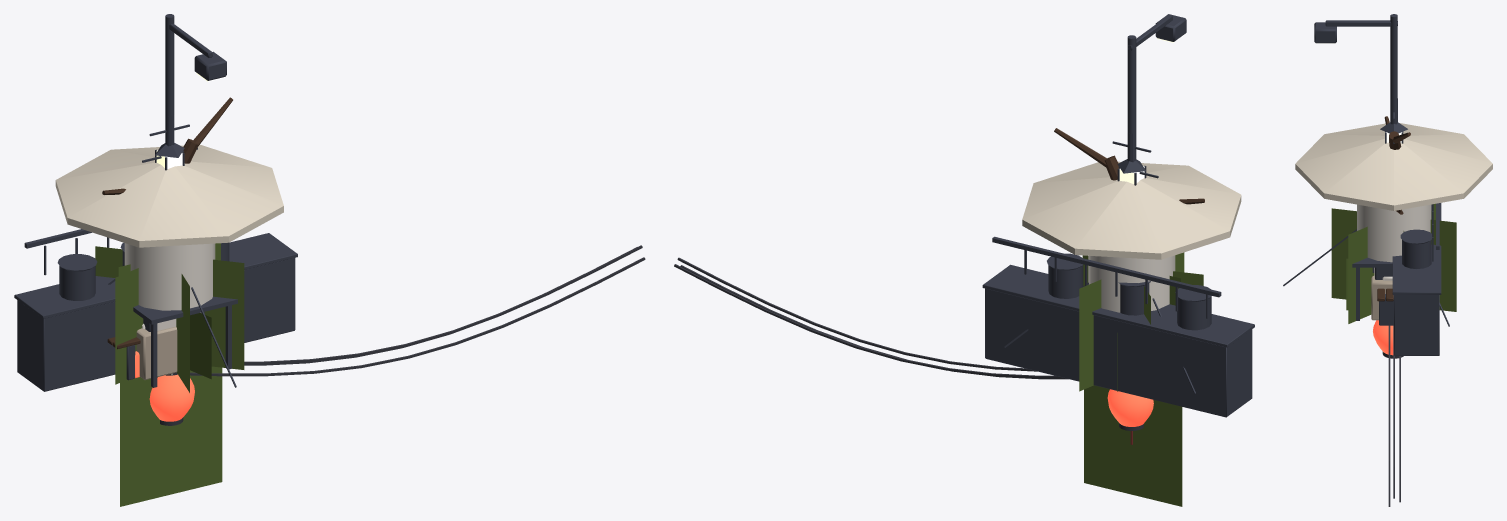
The model's file is props_batch1.glb.
The picture shows the model from 3 angles, left to right: view 1: azimuth 30°, elevation 25°; view 2: azimuth 150°, elevation 25°; view 3: azimuth 270°, elevation 25°; orthographic projection. The views are drawn at different scales.
Visible parts, largest first — view 1: P_terrace_umbrella, P_ramen_counter_set, F_ivy_wall, F_sakura_cloud, P_roof_water_tank, P_cable_bundle_6m, P_street_lamp, P_lantern_red, F_pine_cloud, P_planter_box_1m, P_tree_trunk_pine; view 2: P_ramen_counter_set, P_terrace_umbrella, F_ivy_wall, P_cable_bundle_6m, P_roof_water_tank, F_sakura_cloud, P_street_lamp, P_lantern_red, P_tree_trunk_pine; view 3: P_terrace_umbrella, P_ramen_counter_set, F_sakura_cloud, P_roof_water_tank, P_street_lamp, P_cable_bundle_6m, P_bench_wood, P_lantern_red, P_planter_box_1m, P_tree_trunk_pine, P_lamp_lantern_post, P_roof_antenna (+1 smaller).
Part boxes in pixels (bbox=[...]): P_terrace_umbrella: bbox=[55, 144, 283, 247]; P_ramen_counter_set: bbox=[14, 229, 297, 391]; F_ivy_wall: bbox=[120, 366, 222, 506]; F_sakura_cloud: bbox=[95, 246, 244, 392]; P_roof_water_tank: bbox=[124, 243, 237, 387]; P_cable_bundle_6m: bbox=[190, 245, 645, 376]; P_street_lamp: bbox=[165, 14, 226, 145]; P_lantern_red: bbox=[149, 372, 194, 425]; F_pine_cloud: bbox=[118, 243, 220, 379]; P_planter_box_1m: bbox=[136, 326, 177, 379]; P_tree_trunk_pine: bbox=[102, 97, 232, 194]; P_ramen_counter_set: bbox=[982, 236, 1254, 417]; P_terrace_umbrella: bbox=[1022, 161, 1241, 259]; F_ivy_wall: bbox=[1084, 385, 1182, 506]; P_cable_bundle_6m: bbox=[674, 257, 1068, 379]; P_roof_water_tank: bbox=[1088, 255, 1175, 312]; F_sakura_cloud: bbox=[1079, 252, 1203, 391]; P_street_lamp: bbox=[1127, 14, 1186, 161]; P_lantern_red: bbox=[1107, 389, 1153, 444]; P_tree_trunk_pine: bbox=[1054, 128, 1204, 204]; P_terrace_umbrella: bbox=[1295, 123, 1492, 210]; P_ramen_counter_set: bbox=[1392, 203, 1441, 355]; F_sakura_cloud: bbox=[1331, 203, 1456, 323]; P_roof_water_tank: bbox=[1352, 204, 1431, 320]; P_street_lamp: bbox=[1314, 14, 1397, 124]; P_cable_bundle_6m: bbox=[1388, 325, 1400, 506]; P_bench_wood: bbox=[1377, 288, 1393, 325]; P_lantern_red: bbox=[1373, 320, 1403, 358]; P_planter_box_1m: bbox=[1371, 276, 1392, 320]; P_tree_trunk_pine: bbox=[1384, 116, 1410, 214]; P_lamp_lantern_post: bbox=[1380, 122, 1407, 143]; P_roof_antenna: bbox=[1283, 112, 1449, 326].
Size of the model in its own units: 7.62 by 5.8 by 2.76.
